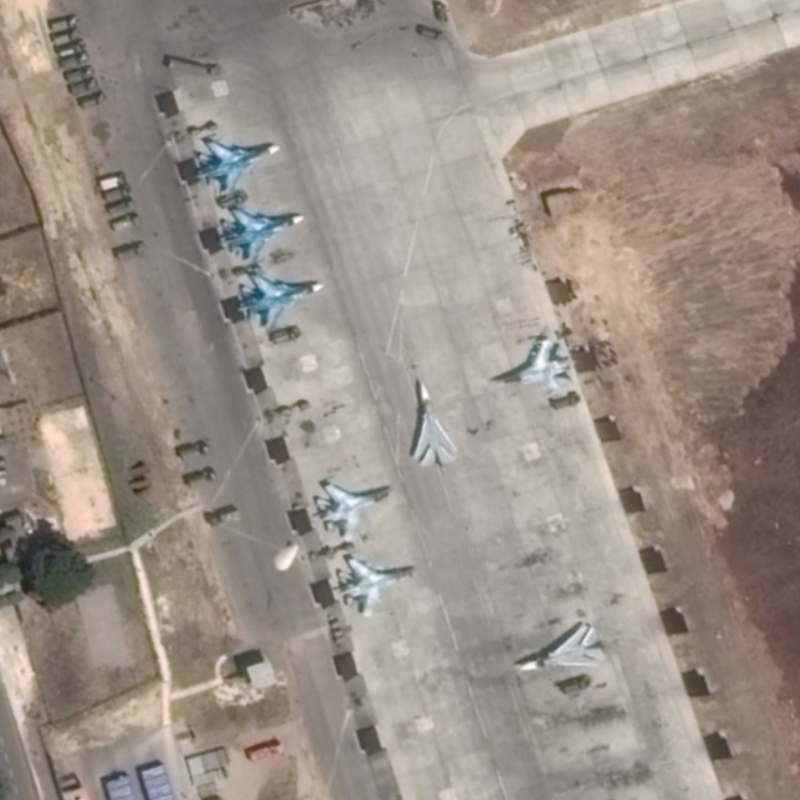A1: (328, 552, 423, 624), (310, 478, 397, 546), (493, 329, 576, 399)
A19: (231, 265, 327, 339), (211, 201, 307, 268), (189, 128, 282, 197)
A20: (404, 372, 465, 474), (508, 618, 607, 674)
